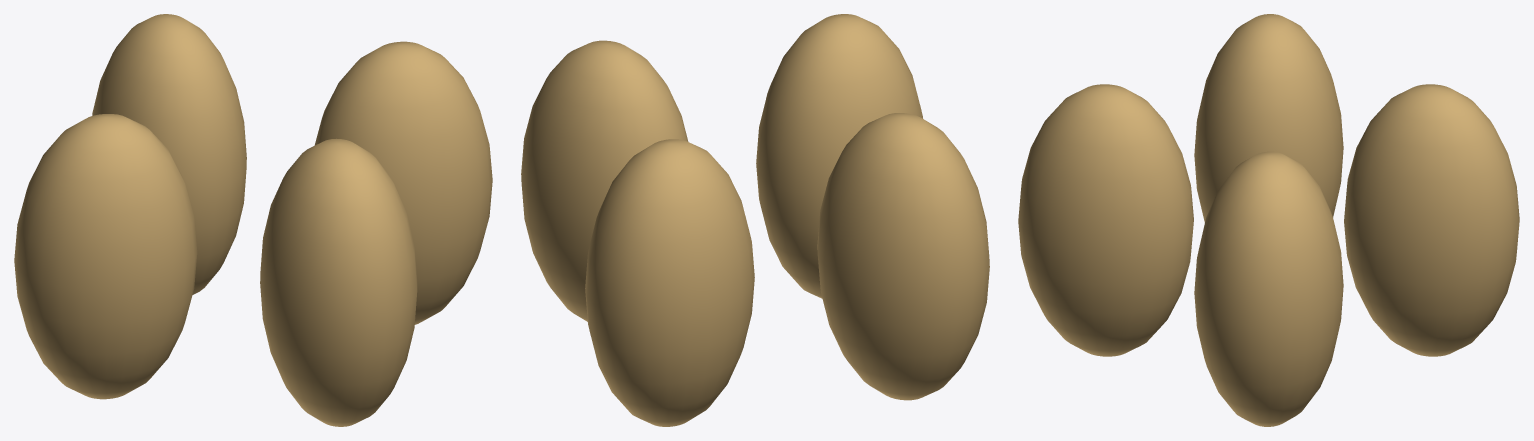
The model's file is crop_3_stage_0.fbx.
3 views of the same model, side by side, from view 1: azimuth 30°, elevation 25°; view 2: azimuth 150°, elevation 25°; view 3: azimuth 270°, elevation 25° (orthographic). The views are drawn at different scales.
Parts seen in each view (by area): view 1: crop_3_stage_0; view 2: crop_3_stage_0; view 3: crop_3_stage_0.
Boxes of the visible parts, box(x1,y1,x2,y2) form: crop_3_stage_0: box(14, 14, 492, 426); crop_3_stage_0: box(521, 14, 989, 426); crop_3_stage_0: box(1018, 14, 1519, 426).
Bounding box in the file's own units: 0.06 × 0.035 × 0.06.
1 material, 1 textured.
